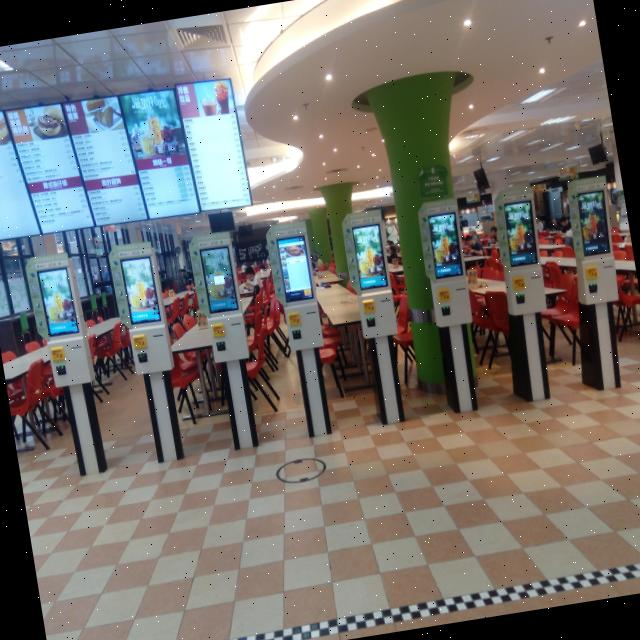orderKiosk: (34, 263, 92, 390), (115, 252, 173, 375), (196, 238, 250, 364), (568, 182, 623, 304), (346, 215, 400, 338), (272, 230, 326, 350), (497, 194, 550, 314), (422, 208, 474, 325)
